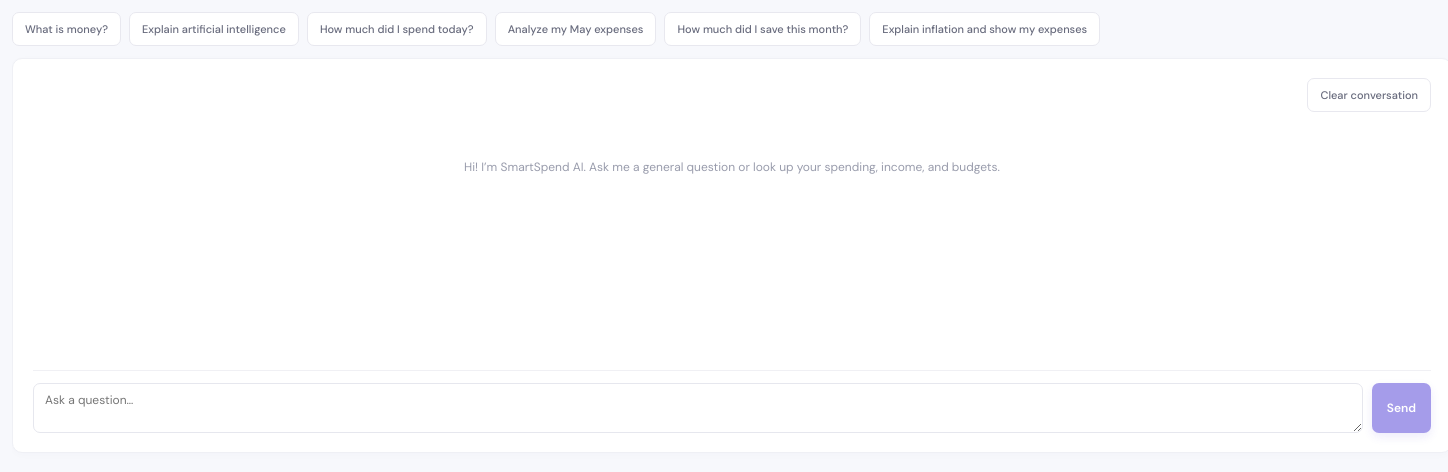
Financial assistant chat › shows category amounts, transaction counts, and shares in a table
The image size is (1448, 472).
Type "How much did I spend on food?" into the text box named "Message" at (698, 408), box [33,383,1363,433]
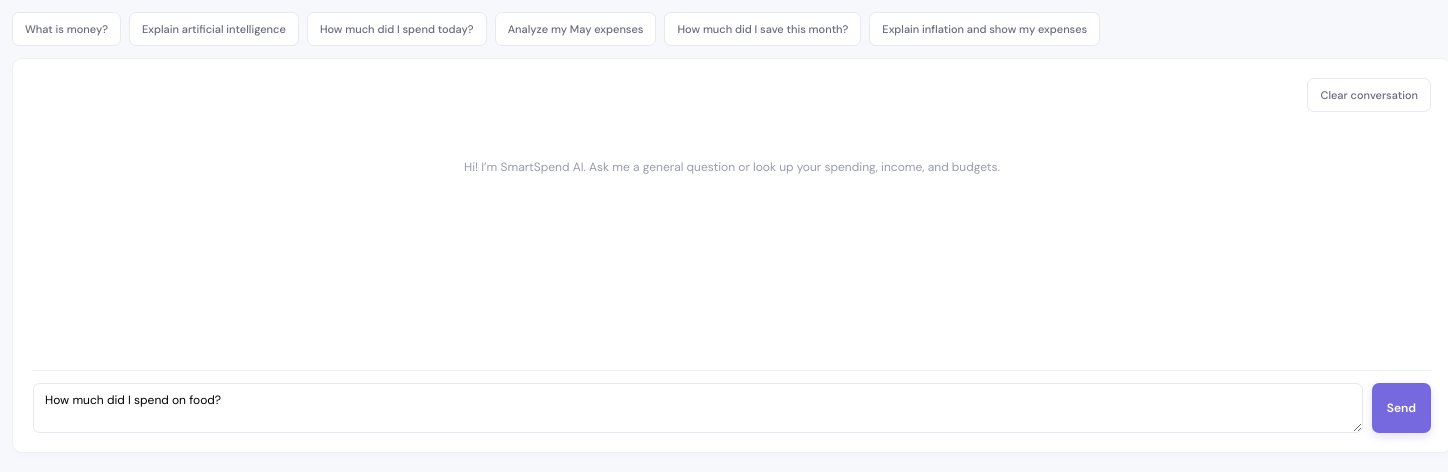
Submit the form named "Message", box [33,370,1431,433]
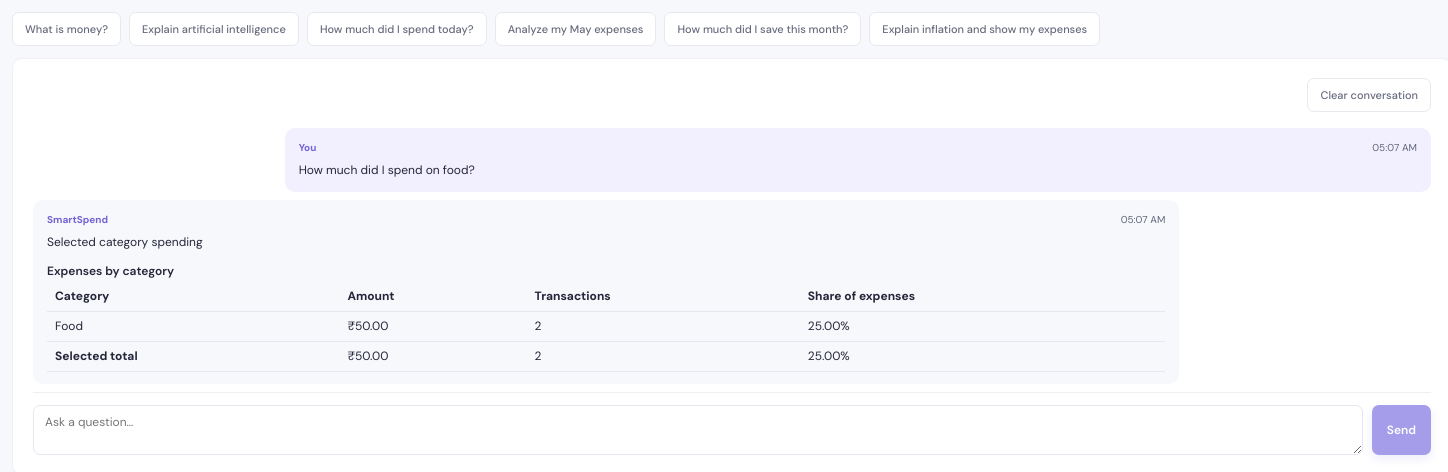
Now the column heading "Share of expenses" is shown, box [800,282,1165,311]
Now the row "Food ₹50.00 2 25.00%" is shown, box [47,311,1165,342]
Now the row "Selected total ₹50.00 2 25.00%" is shown, box [47,341,1165,372]
